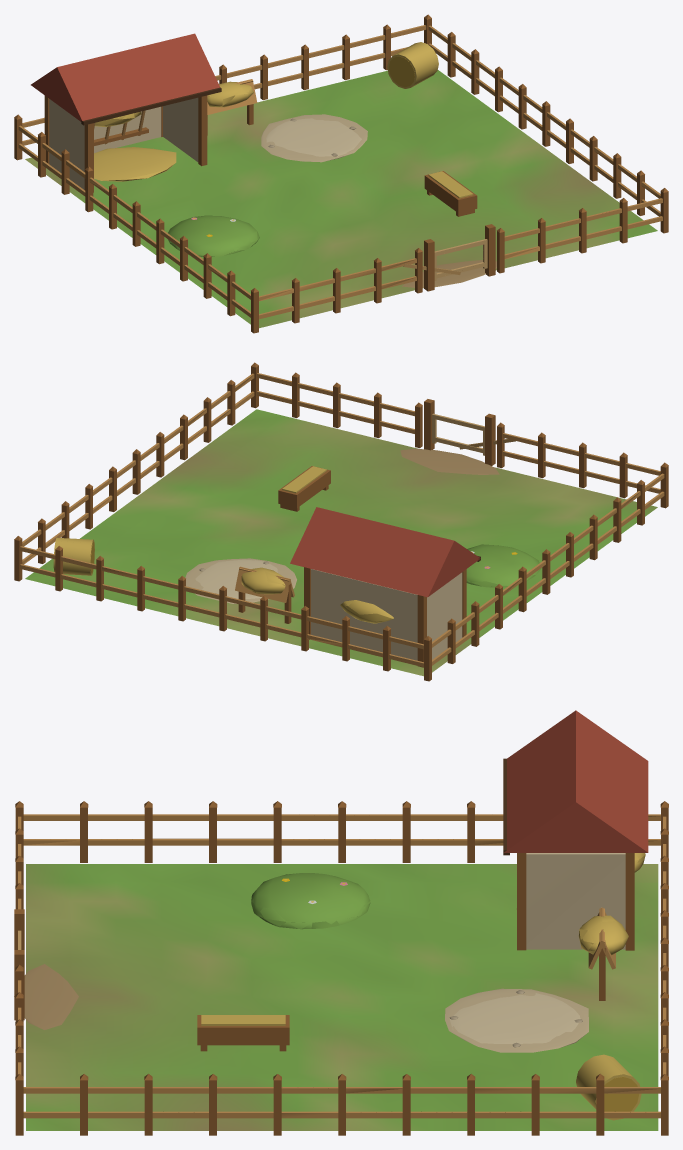
Rendered from paddock-g1.glb.
3 renders of one model, top to bottom at view 1: azimuth 30°, elevation 25°; view 2: azimuth 150°, elevation 25°; view 3: azimuth 270°, elevation 25°, orthographic. The views are drawn at different scales.
Parts seen in each view (by area): view 1: home-paddock-g1, home-paddock-g1-far; view 2: home-paddock-g1, home-paddock-g1-far; view 3: home-paddock-g1, home-paddock-g1-far.
Boxes of the visible parts, <box> form: home-paddock-g1: <box>14,15,668,331</box>; home-paddock-g1-far: <box>14,14,668,333</box>; home-paddock-g1: <box>14,362,668,679</box>; home-paddock-g1-far: <box>14,374,668,681</box>; home-paddock-g1: <box>14,714,668,1135</box>; home-paddock-g1-far: <box>14,710,668,1135</box>.
Size of the model in its own units: 9.93 by 2.63 by 9.95.
